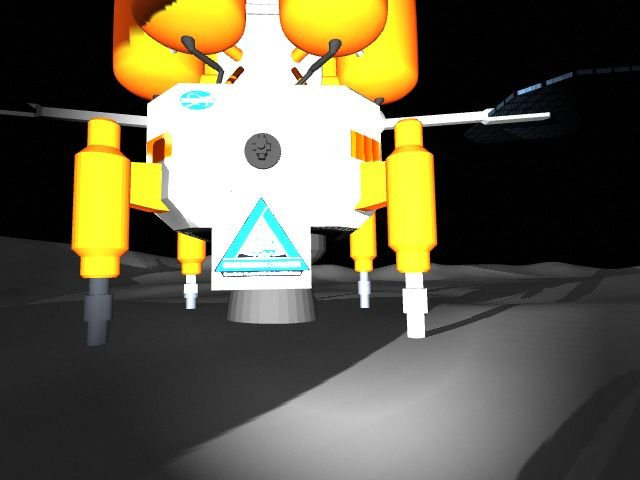basemarker: (214, 194, 312, 279)
